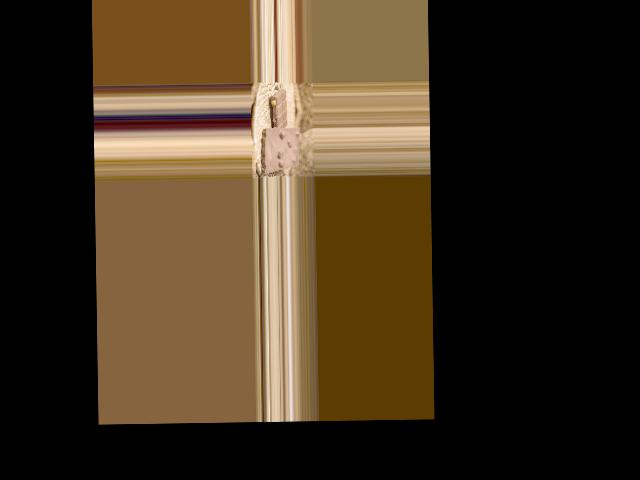chocolate: (261, 124, 301, 174)
